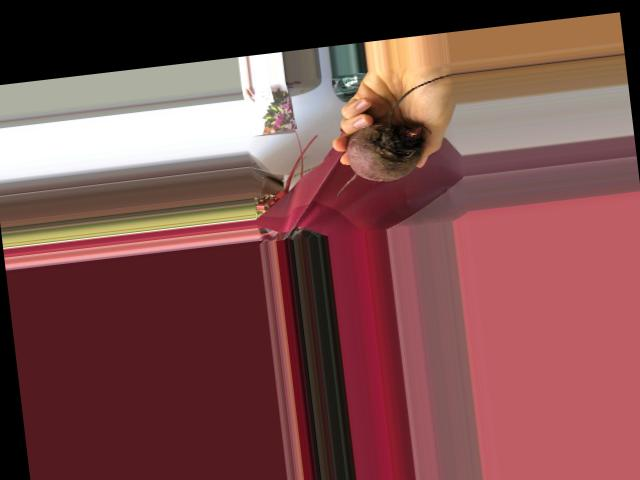beet: (323, 73, 463, 197)
